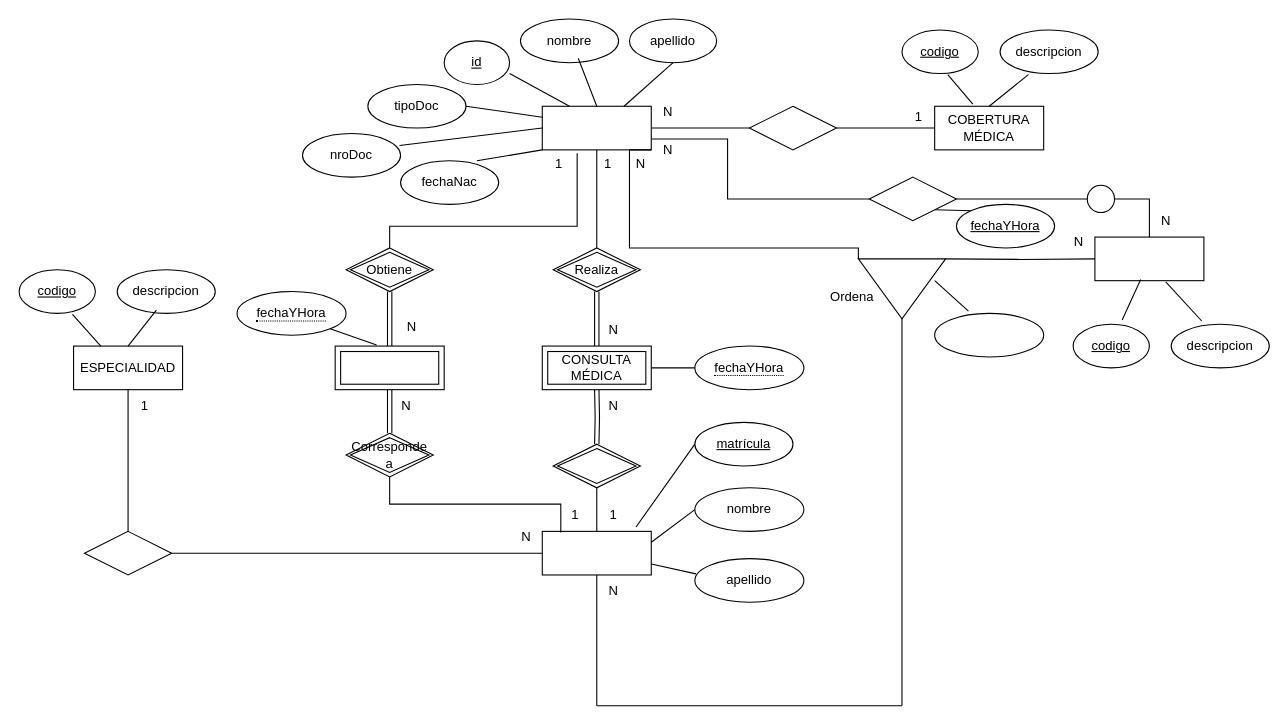
Image size: 1288x726. Some labels were removed from this diagram. Here are the shapes that lost their labels. From the top down, the centre of each, then its label:
point 596,127: PACIENTE
point 792,127: Tiene
point 912,198: Saca turno para
point 1149,258: TIPO DE ESTUDIO
point 989,334: fechaOrden
point 389,367: TURNO
point 596,465: Atendida por
point 127,552: Ejercida por
point 596,552: MÉDICO
